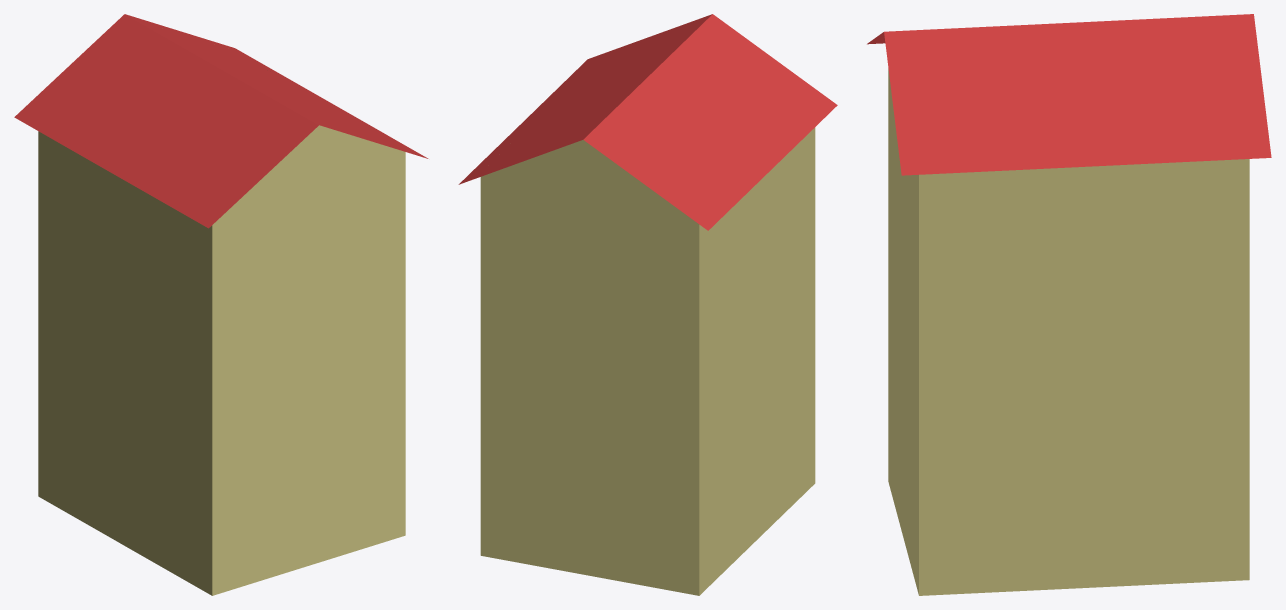
3 renders of one model, left to right at view 1: azimuth 30°, elevation 25°; view 2: azimuth 150°, elevation 25°; view 3: azimuth 270°, elevation 25°, orthographic. The views are drawn at different scales.
Size of the model in its own units: 4.47 by 5.13 by 7.1.
